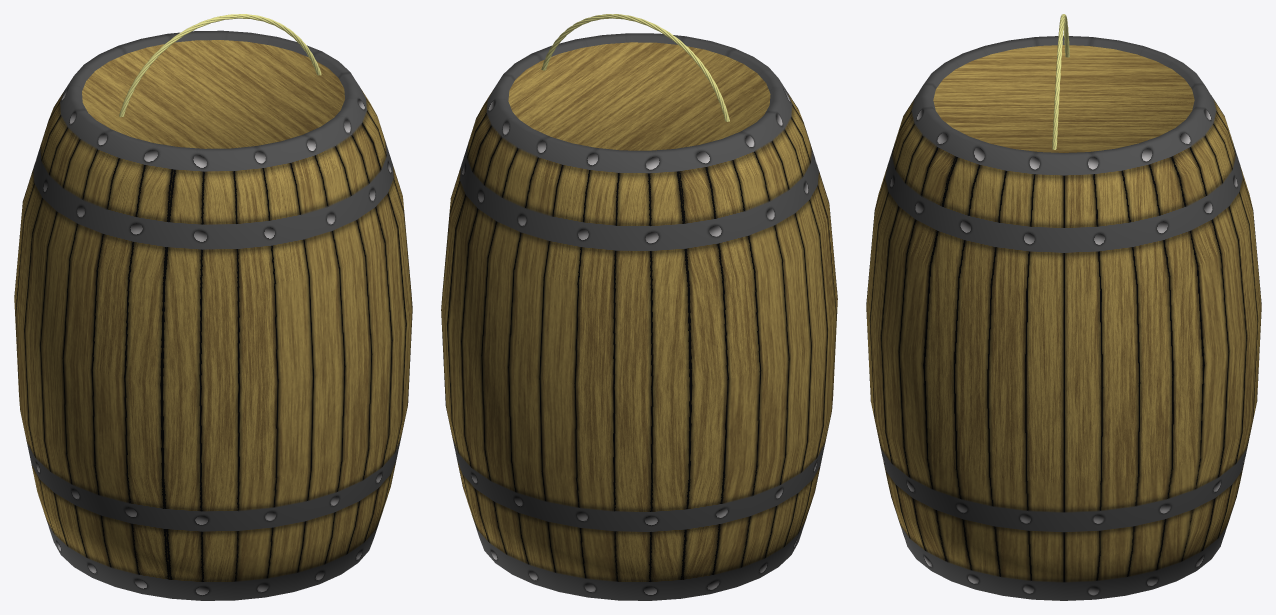
Rendered from BarrellWRope.fbx.
3 views of the same model, side by side, from view 1: azimuth 30°, elevation 25°; view 2: azimuth 150°, elevation 25°; view 3: azimuth 270°, elevation 25° (orthographic).
Visible parts, largest first — view 1: BarrelWRope; view 2: BarrelWRope; view 3: BarrelWRope.
Boxes of the visible parts, bbox=[...] form: BarrelWRope: bbox=[14, 14, 412, 600]; BarrelWRope: bbox=[441, 14, 837, 600]; BarrelWRope: bbox=[866, 14, 1261, 600].
Bounding box in the file's own units: 168 × 239 × 168.
Materials: 2 (1 with a texture image).
